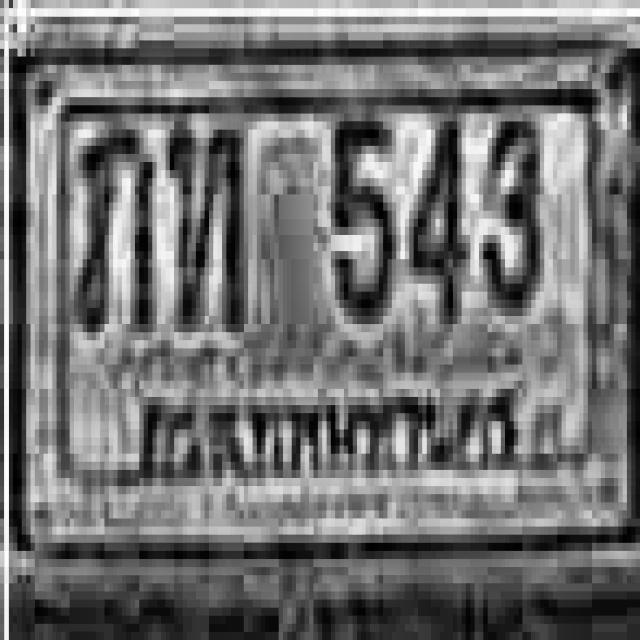license-plate: (17, 25, 640, 585)
